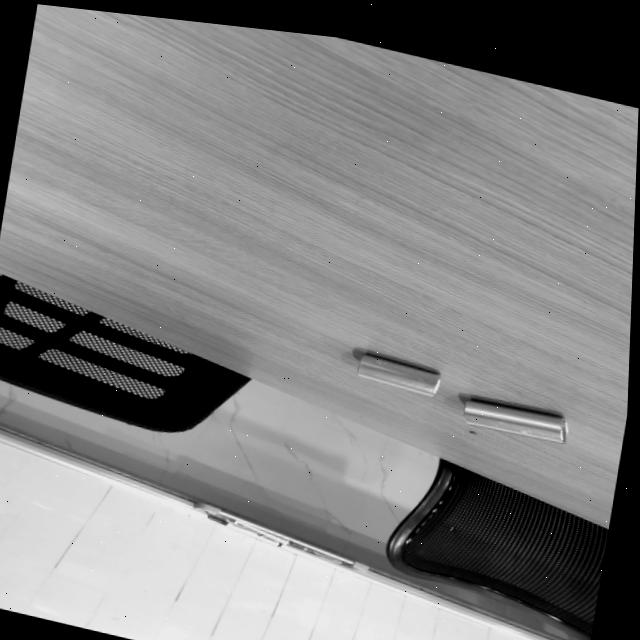Co_Lon: (460, 398, 570, 444)
Co_Nho: (355, 351, 442, 398)
